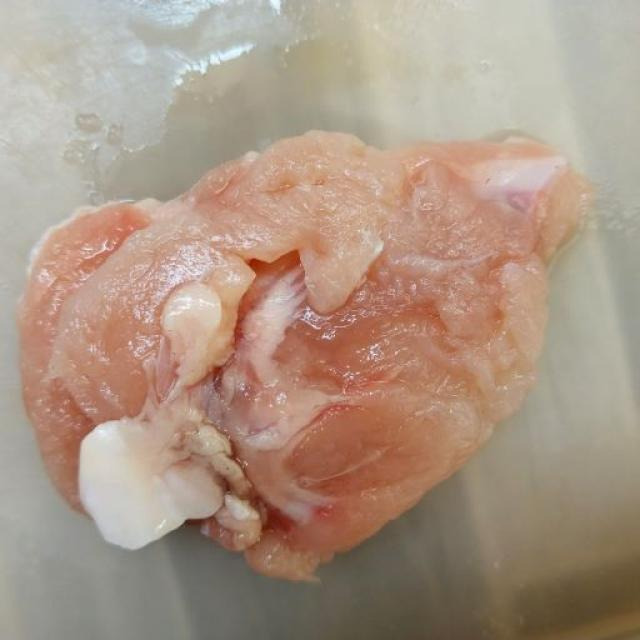chicken: (16, 126, 593, 584)
